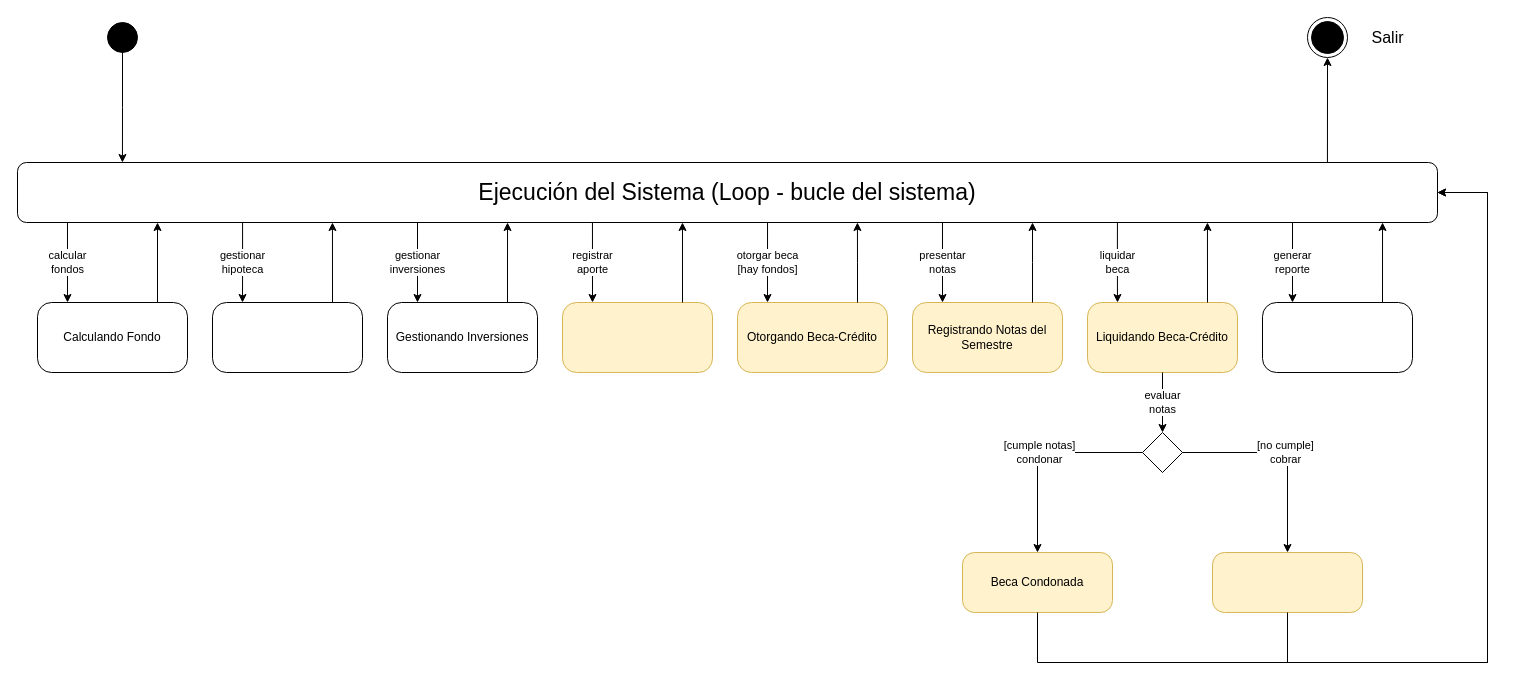
This 1513x688 diagram has some shape labels left out. Here are the shapes that lost their labels. From the top down, the centre of each, then its label:
the point at 287,337: Gestionando Hipoteca
the point at 637,337: Registrando Aporte Anual
the point at 1337,337: Generación Reporte
the point at 1287,582: Devolución de Matrícula Pendiente
